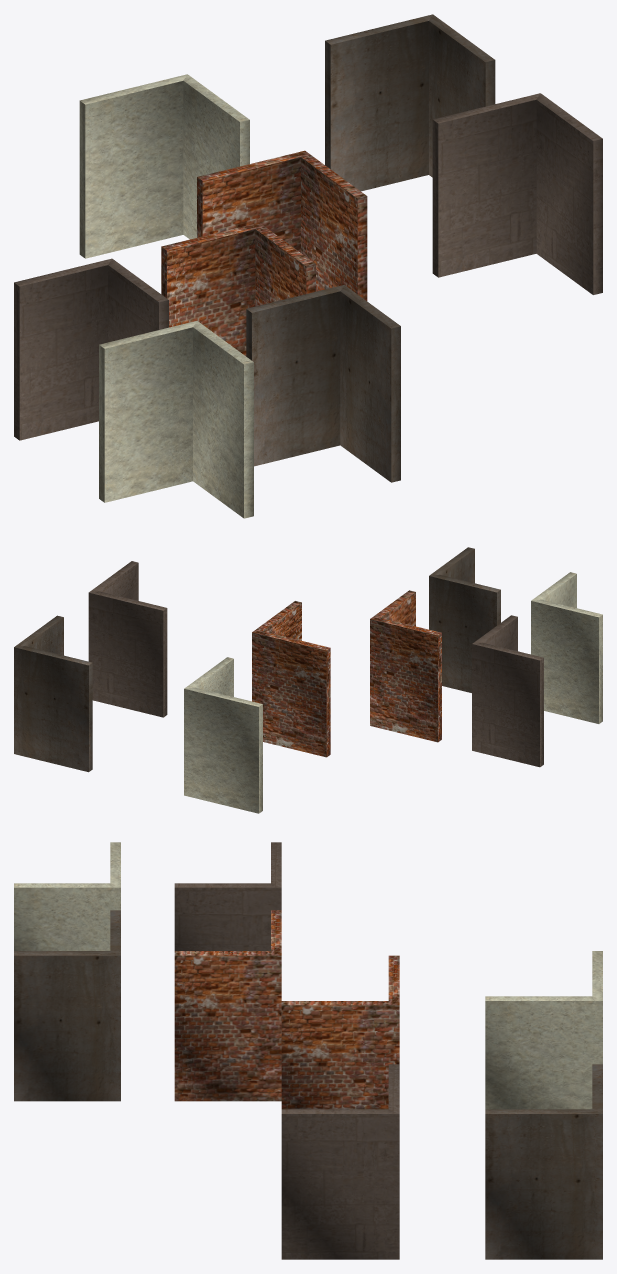
Rendered from budynki_Maks (21).fbx.
3 views of the same model, one above another, from view 1: azimuth 30°, elevation 25°; view 2: azimuth 150°, elevation 25°; view 3: azimuth 270°, elevation 25° (orthographic). The views are drawn at different scales.
Parts seen in each view (by area): view 1: wall corner outside 2x2, wall corner inside 2x2.002, wall corner inside 2x2.001, wall corner outside 2x2.006, wall corner outside 2x2.005, wall corner inside 2x2, wall corner 2x2.008, wall corner inside 2x2.003; view 2: wall corner outside 2x2.005, wall corner outside 2x2.006, wall corner outside 2x2, wall corner 2x2.008, wall corner inside 2x2.003, wall corner inside 2x2, wall corner inside 2x2.002, wall corner inside 2x2.001; view 3: wall corner outside 2x2, wall corner outside 2x2.005, wall corner inside 2x2.003, wall corner inside 2x2.001, wall corner outside 2x2.006, wall corner 2x2.008, wall corner inside 2x2, wall corner inside 2x2.002.
Part boxes in pixels (x1,y1,x2,y2): wall corner outside 2x2: [432, 93, 602, 294]; wall corner inside 2x2.002: [99, 321, 253, 518]; wall corner inside 2x2.001: [246, 285, 400, 482]; wall corner outside 2x2.006: [79, 74, 249, 258]; wall corner outside 2x2.005: [325, 14, 495, 191]; wall corner inside 2x2: [14, 258, 168, 440]; wall corner 2x2.008: [197, 150, 367, 300]; wall corner inside 2x2.003: [161, 222, 315, 356]; wall corner outside 2x2.005: [14, 615, 92, 772]; wall corner outside 2x2.006: [184, 657, 262, 813]; wall corner outside 2x2: [88, 561, 167, 717]; wall corner 2x2.008: [252, 601, 330, 757]; wall corner inside 2x2.003: [370, 590, 441, 742]; wall corner inside 2x2: [472, 615, 543, 767]; wall corner inside 2x2.002: [531, 572, 602, 723]; wall corner inside 2x2.001: [429, 547, 500, 692]; wall corner outside 2x2: [281, 1064, 399, 1259]; wall corner outside 2x2.005: [485, 1064, 602, 1259]; wall corner inside 2x2.003: [174, 910, 281, 1101]; wall corner inside 2x2.001: [14, 910, 120, 1101]; wall corner outside 2x2.006: [485, 951, 602, 1109]; wall corner 2x2.008: [281, 955, 399, 1109]; wall corner inside 2x2: [174, 842, 281, 950]; wall corner inside 2x2.002: [14, 842, 120, 950].
Size of the model in its own units: 1200 by 300 by 1100.
